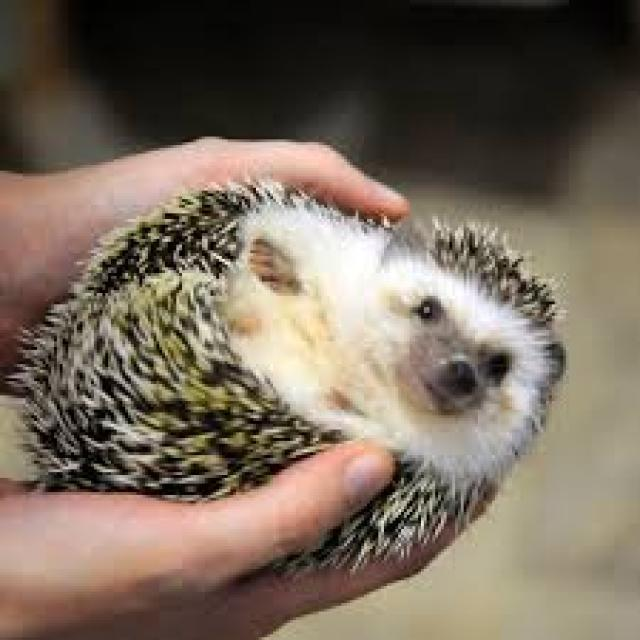Hedgehog: (37, 173, 570, 573)
